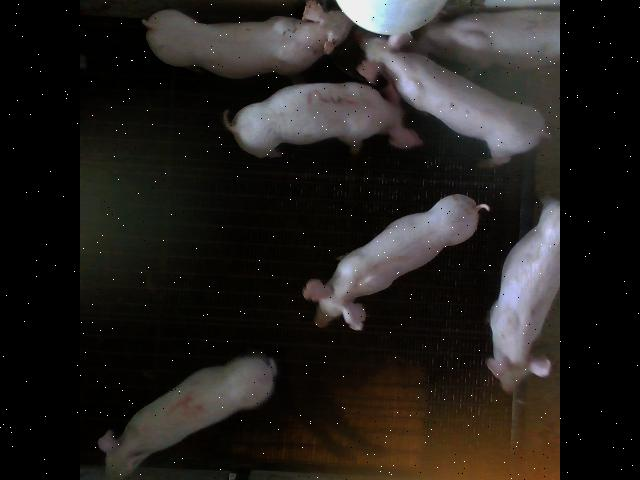pig-3: (224, 81, 422, 156)
pig-4: (99, 351, 277, 478)
